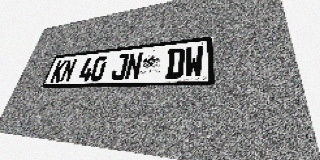0: (89, 55, 108, 81)
4: (77, 57, 96, 82)
D: (165, 47, 185, 79)
J: (110, 53, 129, 81)
K: (49, 60, 68, 83)
N: (124, 52, 144, 80), (59, 59, 77, 83)
W: (184, 45, 204, 78)
